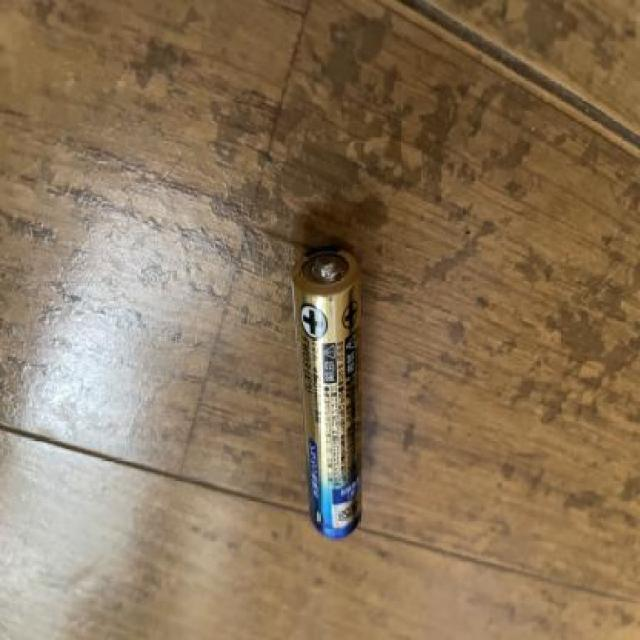AAA: (288, 244, 368, 540)
